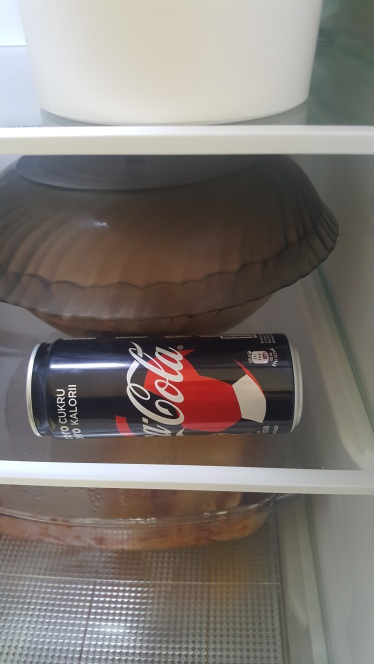colazero: (14, 328, 326, 445)
